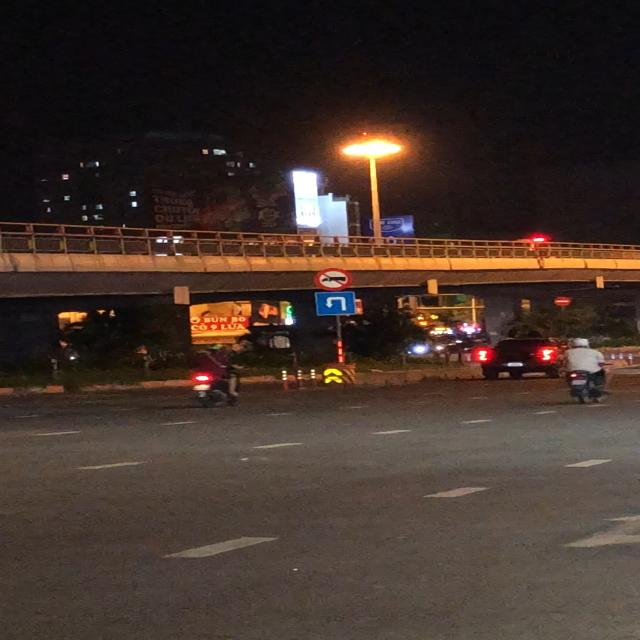Bien bao cam xe so-mi ro-mooc: (313, 267, 352, 291)
